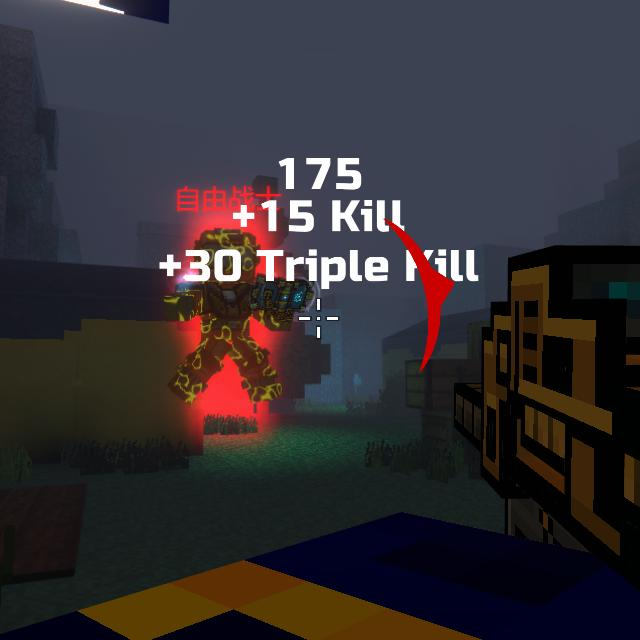Enemy: (163, 227, 292, 420)
